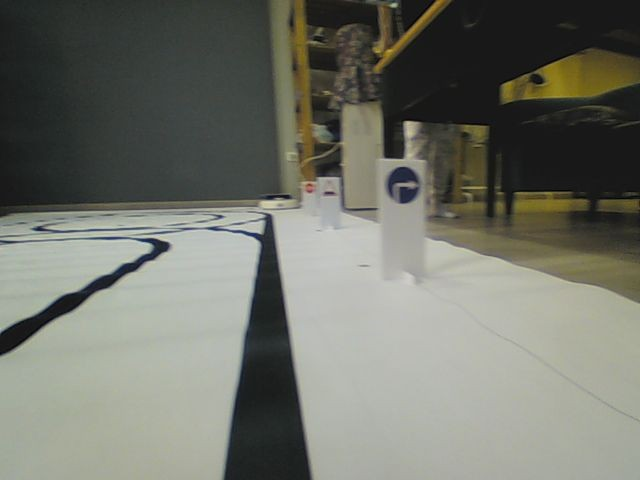Right: (385, 164, 420, 205)
